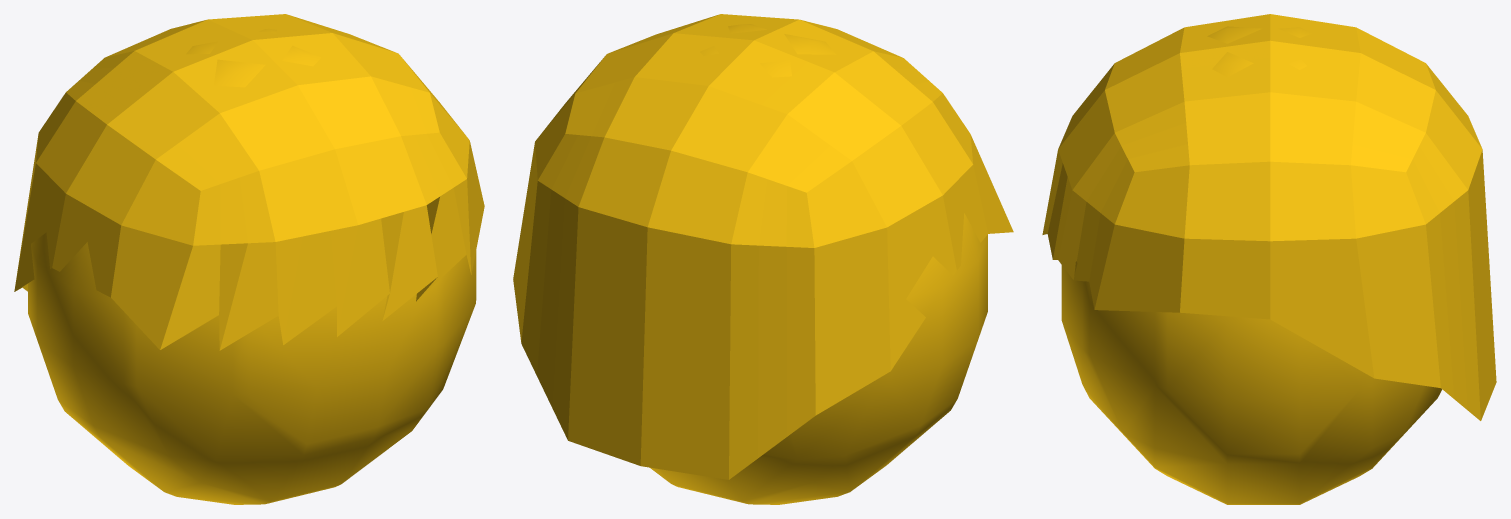
File: float_Head.obj
The picture shows the model from 3 angles, left to right: view 1: azimuth 30°, elevation 25°; view 2: azimuth 150°, elevation 25°; view 3: azimuth 270°, elevation 25°; orthographic projection.
Parts seen in each view (by area): view 1: head; view 2: head; view 3: head.
Boxes of the visible parts, box(x1,y1,x2,y2) form: head: box(14, 14, 484, 504); head: box(513, 14, 1013, 504); head: box(1042, 14, 1496, 504).
Size of the model in its own units: 1.34 by 1.4 by 1.3.
Materials: 1 (1 with a texture image).
